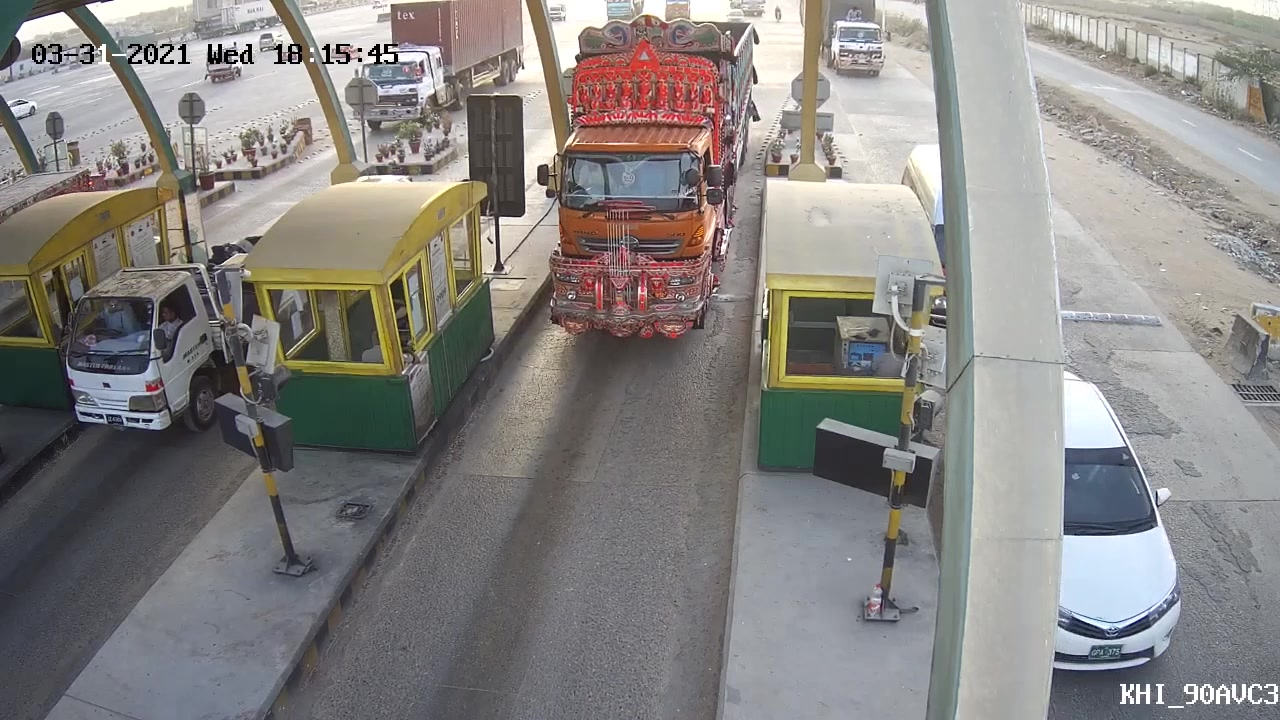F5: (531, 12, 762, 343)
